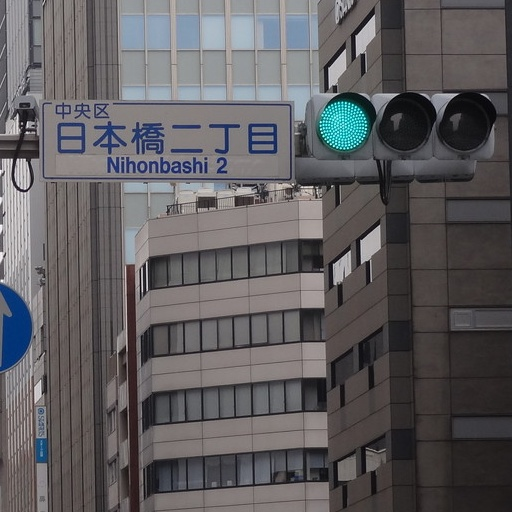Traffic_Signal_Blue: (303, 90, 502, 161)
